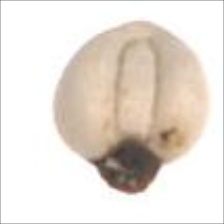L5: (113, 37, 161, 140), (92, 134, 169, 197), (108, 20, 168, 38)
L6: (52, 21, 214, 196)
